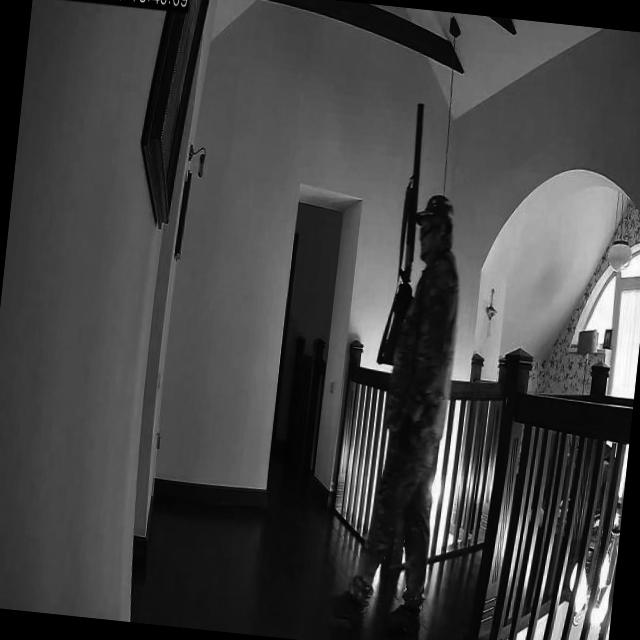gun: (374, 97, 432, 371)
person with a gun: (332, 94, 486, 640)
